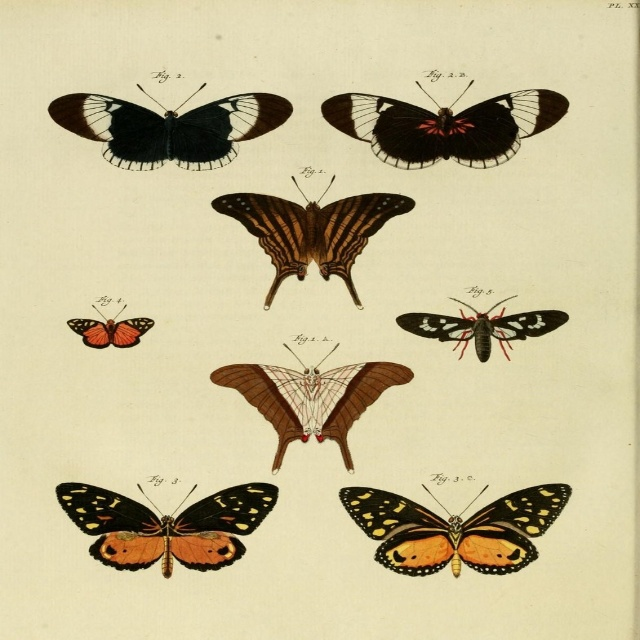Butterfly: (208, 166, 417, 311), (208, 336, 418, 476), (319, 75, 571, 175), (339, 478, 569, 583), (54, 482, 278, 581), (45, 83, 294, 171), (398, 289, 571, 361), (68, 300, 152, 342)
